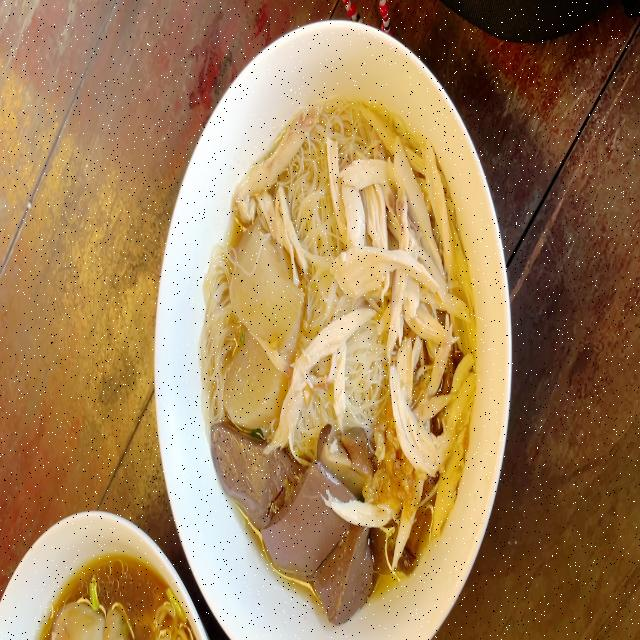boiled_chicken_blood_jelly: (216, 436, 367, 604)
chicken_shredded: (342, 109, 467, 492), (224, 121, 300, 214)
daikon_radish: (210, 222, 300, 420)
noodle: (200, 91, 472, 618), (34, 538, 204, 640)
